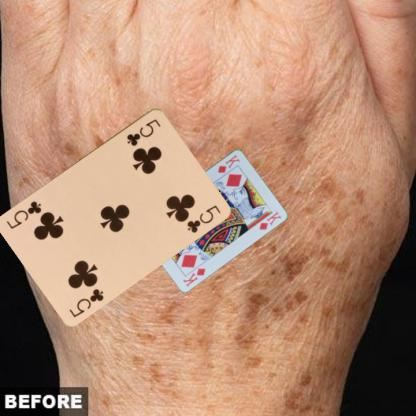5c: (124, 115, 162, 148), (67, 286, 105, 318)
Kd: (215, 151, 241, 174), (181, 265, 207, 288)
